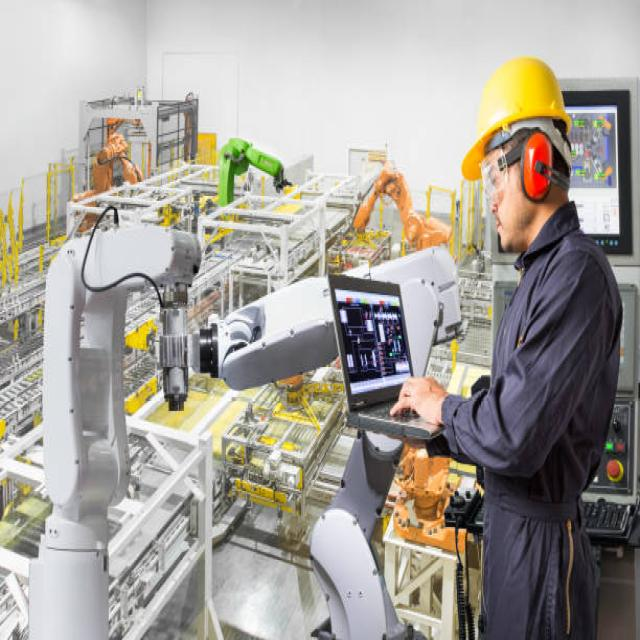Robotic-arm: (202, 235, 461, 640), (31, 218, 199, 640)
